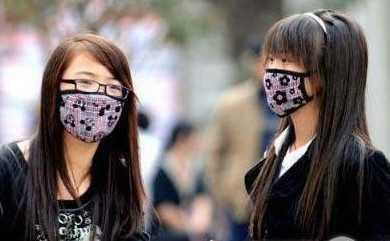OK: (62, 72, 127, 142), (266, 47, 330, 116)
